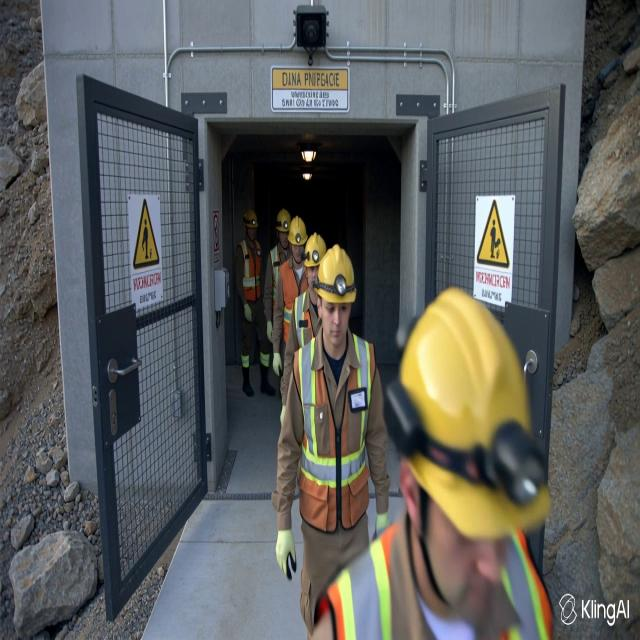Vest: (294, 336, 374, 532), (327, 524, 399, 639), (280, 262, 307, 342), (240, 240, 261, 301), (293, 291, 314, 347), (270, 245, 280, 308)
Worker: (313, 288, 551, 639), (272, 246, 389, 634), (281, 233, 326, 424), (235, 209, 274, 396), (272, 216, 307, 376), (264, 209, 290, 342)
helmet: (387, 288, 549, 538), (313, 245, 355, 303), (304, 233, 326, 267), (288, 216, 307, 246), (276, 209, 290, 231), (243, 209, 257, 228)
